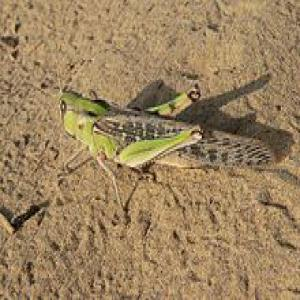locust: (53, 61, 278, 197)
